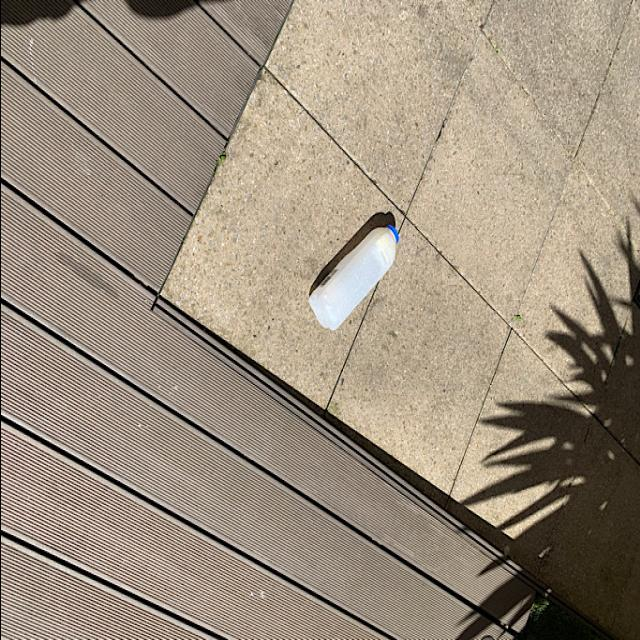litter: (306, 222, 402, 332)
